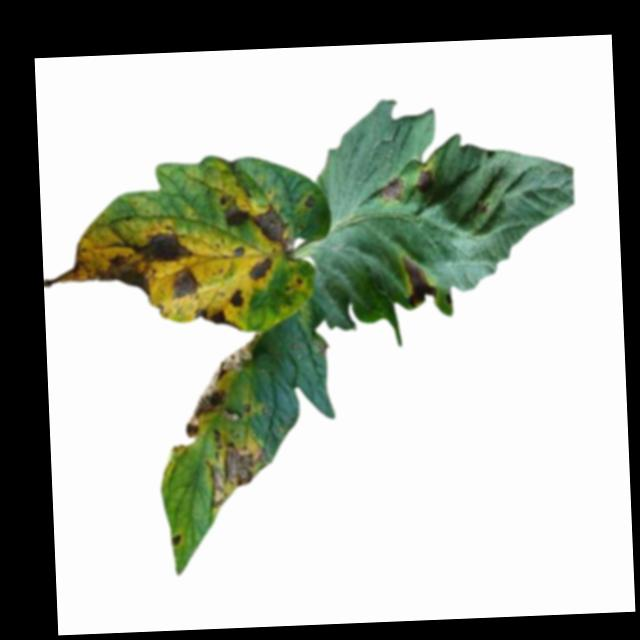Early_blight: (41, 228, 195, 303), (179, 334, 267, 439), (205, 427, 267, 508), (219, 192, 291, 252), (399, 251, 440, 310), (191, 307, 246, 334), (168, 267, 203, 302), (245, 254, 273, 283), (379, 175, 405, 201), (412, 164, 433, 192), (228, 286, 244, 308), (169, 528, 181, 547), (303, 192, 318, 207)
